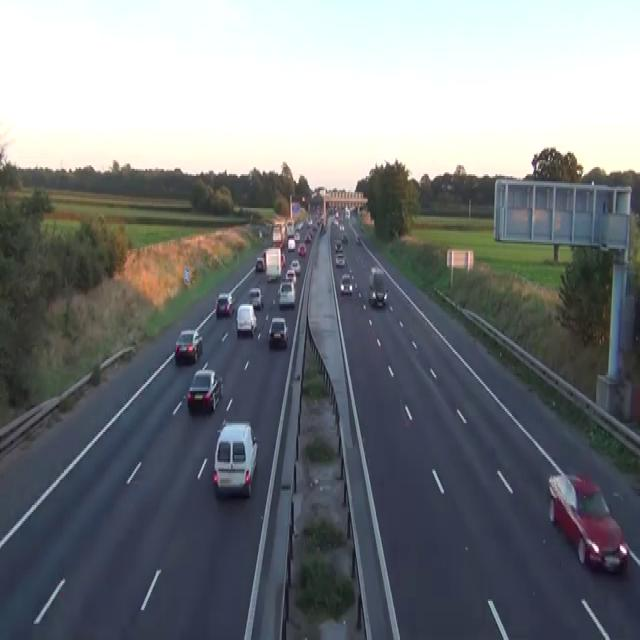Car: (547, 473, 628, 574), (212, 421, 258, 498), (186, 368, 223, 412), (175, 329, 203, 364), (368, 266, 388, 308), (235, 302, 256, 336), (268, 316, 288, 348), (277, 281, 295, 307), (215, 292, 233, 316), (368, 286, 388, 306), (248, 286, 263, 310), (340, 272, 352, 295), (265, 263, 279, 281), (290, 258, 300, 276), (285, 268, 296, 284), (335, 250, 345, 266), (258, 224, 269, 238), (255, 256, 264, 272), (297, 242, 306, 256), (334, 238, 342, 251), (287, 238, 295, 251), (304, 233, 312, 242), (233, 203, 240, 213), (296, 220, 303, 230), (306, 215, 312, 226), (294, 231, 300, 242), (341, 233, 347, 243), (281, 252, 285, 266), (321, 222, 326, 233), (355, 234, 361, 243), (339, 222, 344, 231), (333, 217, 338, 226), (258, 228, 262, 238), (360, 224, 364, 231)
Truck: (263, 247, 281, 281), (272, 221, 286, 247), (286, 218, 295, 236)
